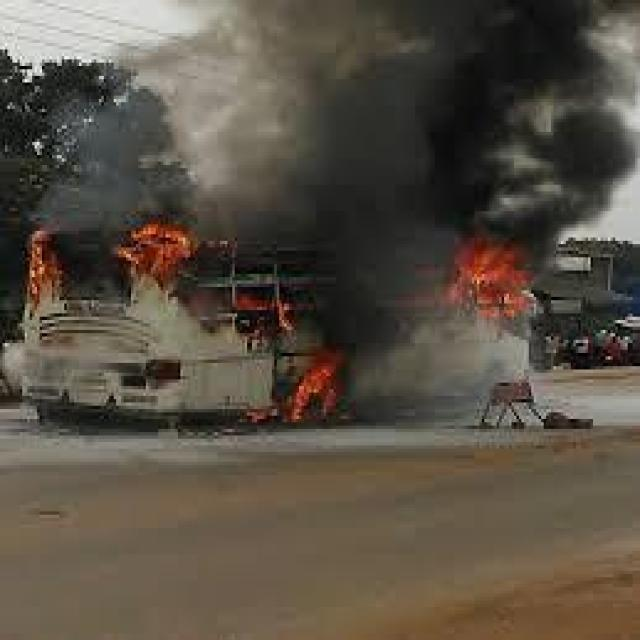Fire: (447, 232, 533, 334), (273, 351, 372, 438), (110, 218, 202, 302), (16, 221, 87, 316), (236, 277, 298, 346)
Smoke: (46, 10, 404, 202), (426, 8, 634, 202), (328, 207, 442, 326)
